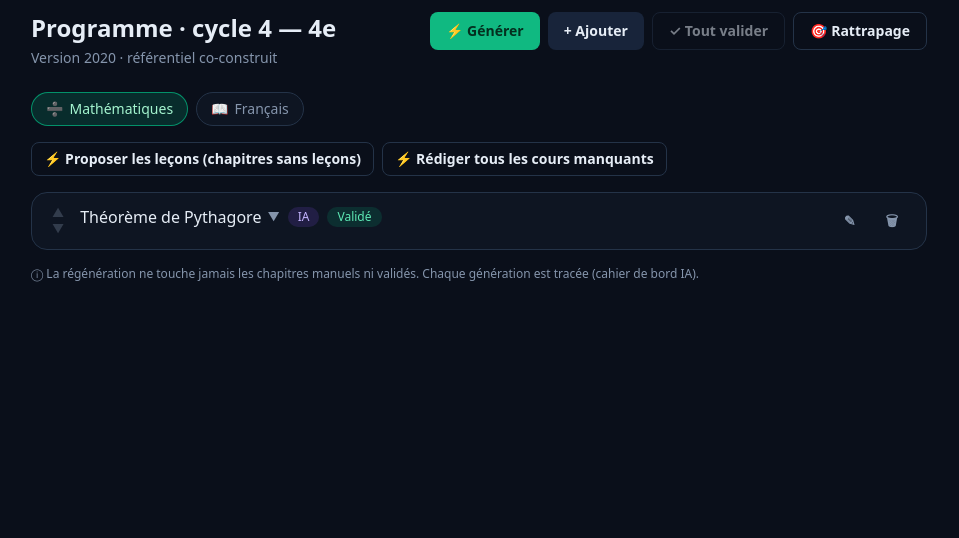
Scenario: ProgrammePage › dépliage : leçons chargées à la demande, archived masquée, notions en chips
This screenshot has width=959, height=538.
Expected: the text "Théorème de Pythagore" is shown, [80,205,261,229]
Click the button "Théorème de Pythagore ▼" at (180,217), box [80,205,280,229]
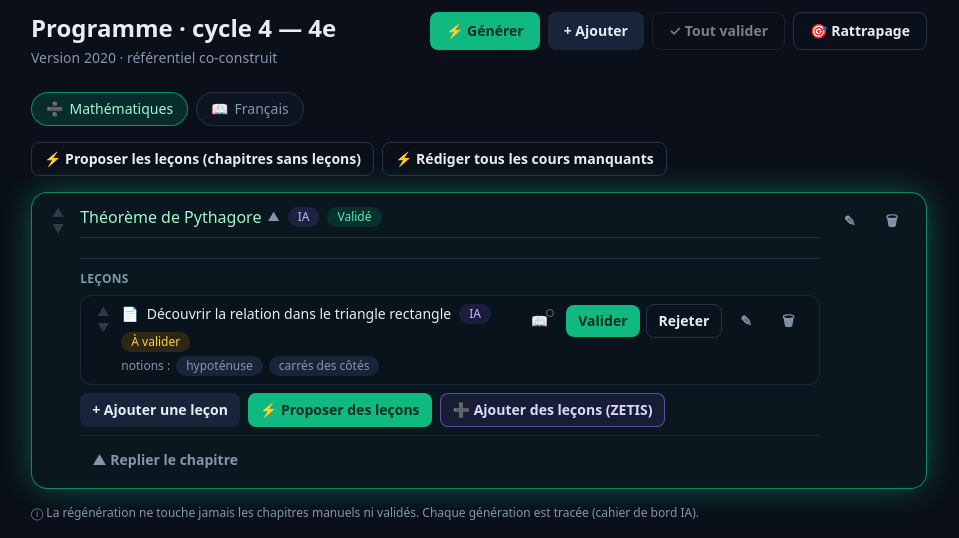
Expected: the text "Découvrir la relation dans le triangle rectangle" is shown, [147,304,451,324]
Expected: the text "hypoténuse" is shown, [176,356,263,376]
Expected: the text "carrés des côtés" is shown, [269,356,380,376]
